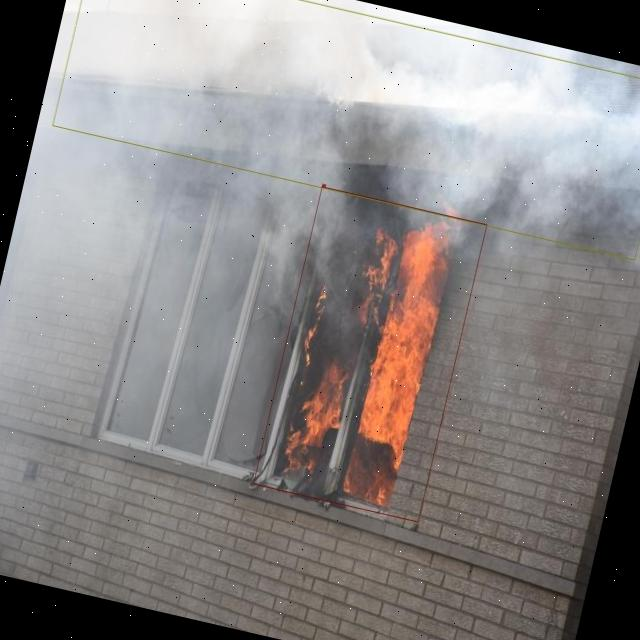fire: (253, 186, 487, 522)
smoke: (52, 0, 640, 260)
